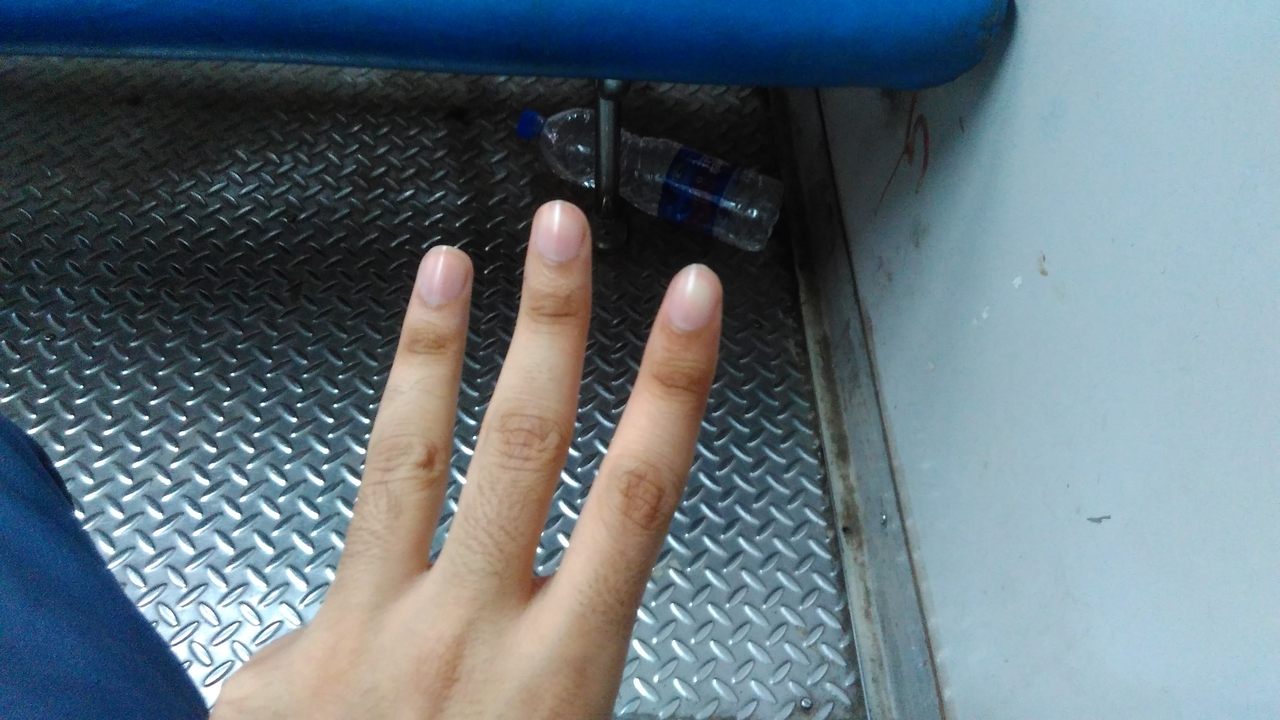fingertip: (656, 254, 728, 332), (406, 240, 474, 316), (522, 194, 590, 268)
